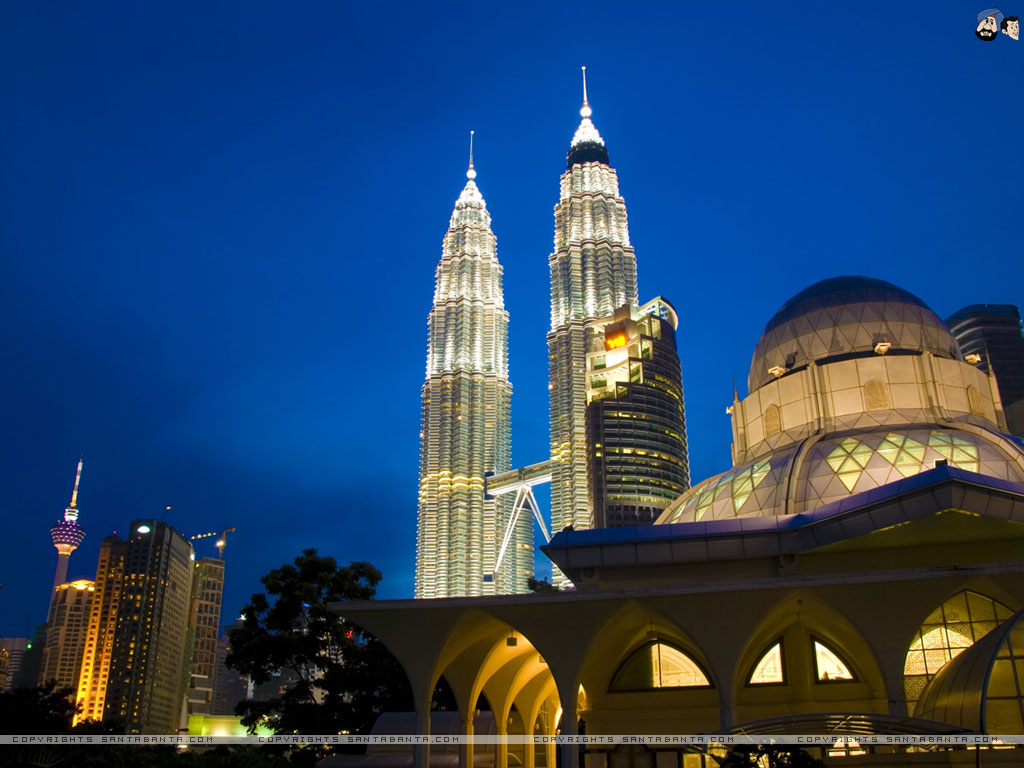Mosque: (388, 278, 1023, 727)
